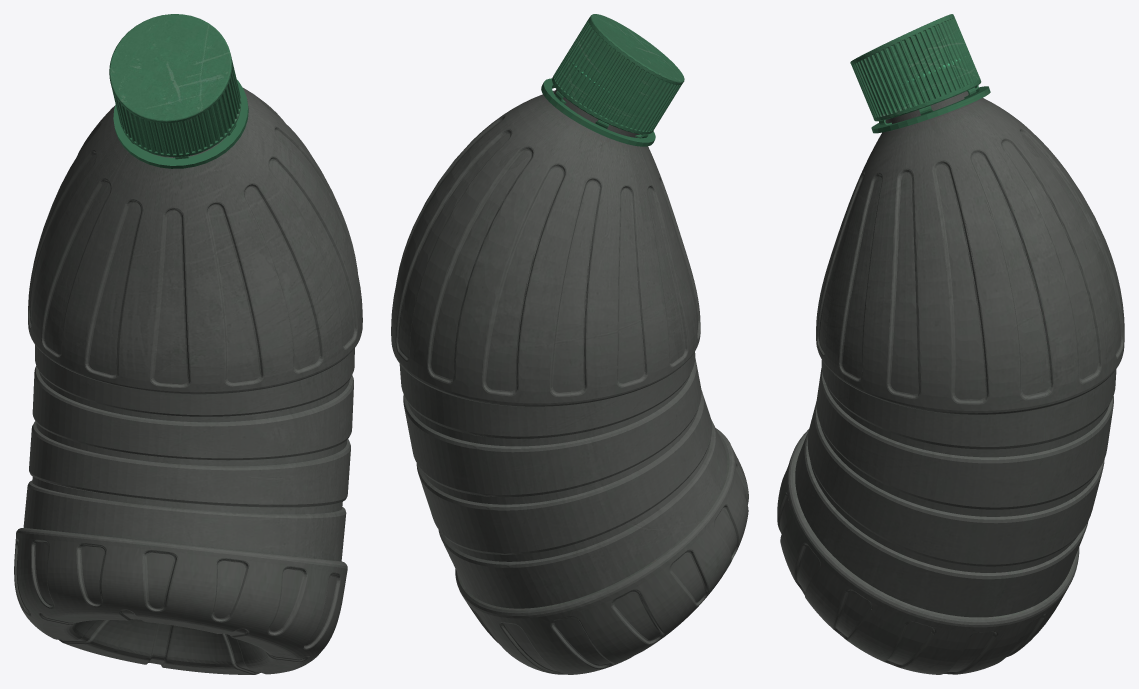
File: bend_high_1.obj
The picture shows the model from 3 angles, left to right: view 1: azimuth 30°, elevation 25°; view 2: azimuth 150°, elevation 25°; view 3: azimuth 270°, elevation 25°; orthographic projection. The views are drawn at different scales.
Visible parts, largest first — view 1: model; view 2: model; view 3: model.
Boxes of the visible parts, x1=… form: model: x1=14, y1=14, x2=362, y2=674; model: x1=391, y1=14, x2=748, y2=674; model: x1=777, y1=14, x2=1124, y2=674.
Bounding box in the file's own units: 0.1379 × 0.2757 × 0.1384.
Materials: 1 (1 with a texture image).
